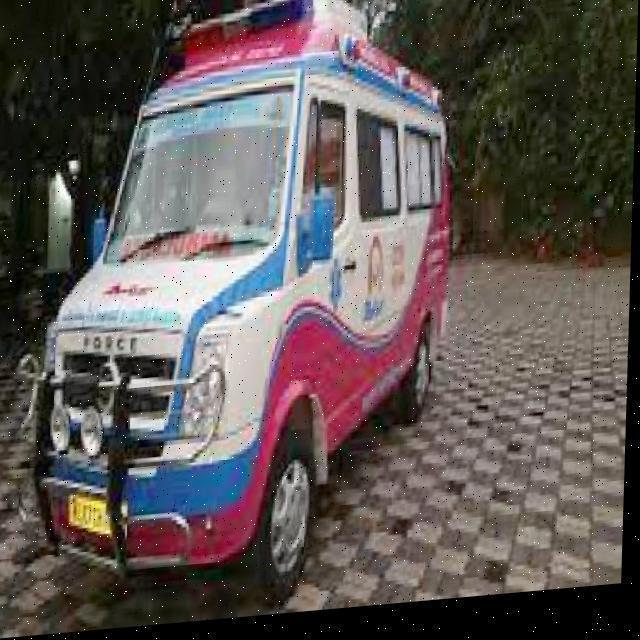Ambulance: (16, 0, 464, 630), (0, 248, 631, 638)
